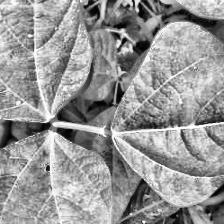Bean Rust: (108, 25, 224, 202), (0, 133, 125, 224), (0, 0, 91, 125)
